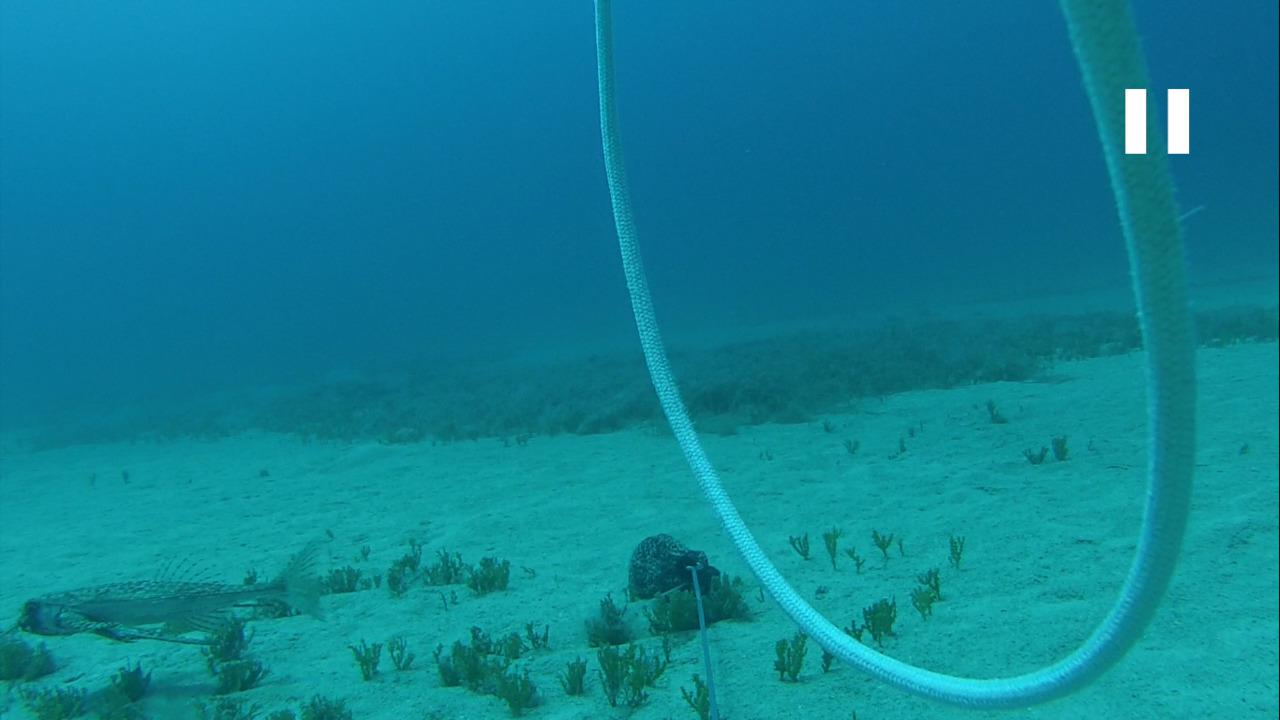dactylopterus: (16, 539, 328, 660)
